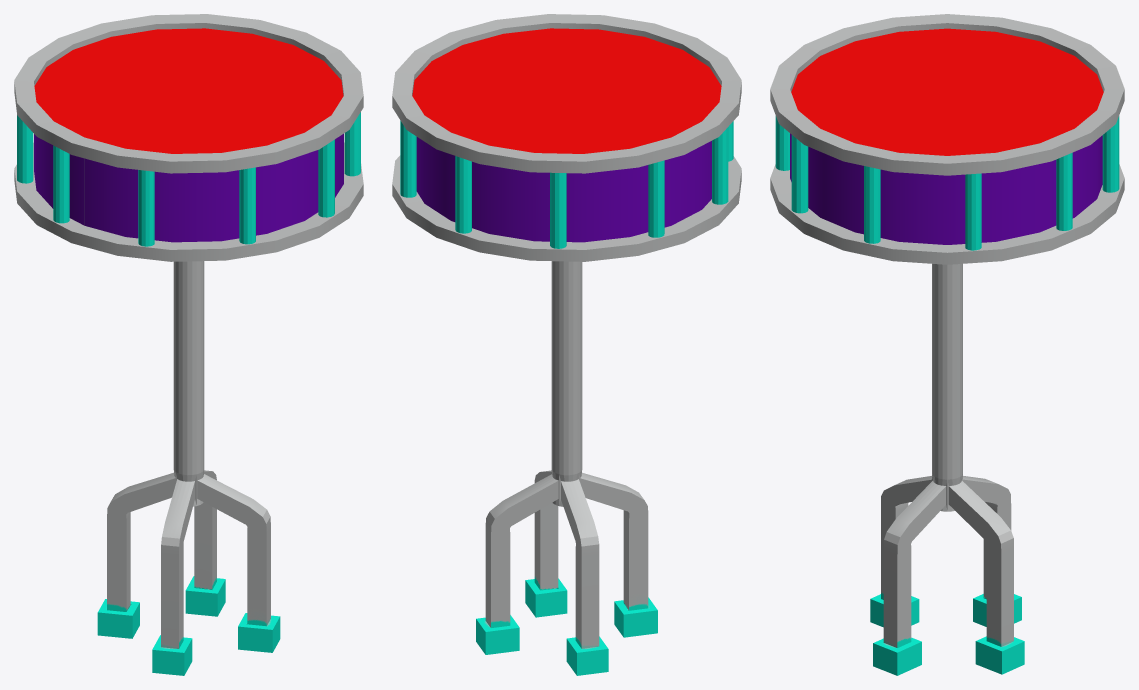
The model's file is TOM_4.fbx.
The picture shows the model from 3 angles, left to right: view 1: azimuth 30°, elevation 25°; view 2: azimuth 150°, elevation 25°; view 3: azimuth 270°, elevation 25°; orthographic projection.
Parts seen in each view (by area): view 1: pCylinder35; view 2: pCylinder35; view 3: pCylinder35.
Boxes of the visible parts, x1=… form: pCylinder35: x1=14, y1=14, x2=363, y2=675; pCylinder35: x1=392, y1=14, x2=741, y2=675; pCylinder35: x1=770, y1=14, x2=1124, y2=675.
Bounding box in the file's own units: 3.85 × 6.65 × 3.85.
Materials: 2 (2 with a texture image).
